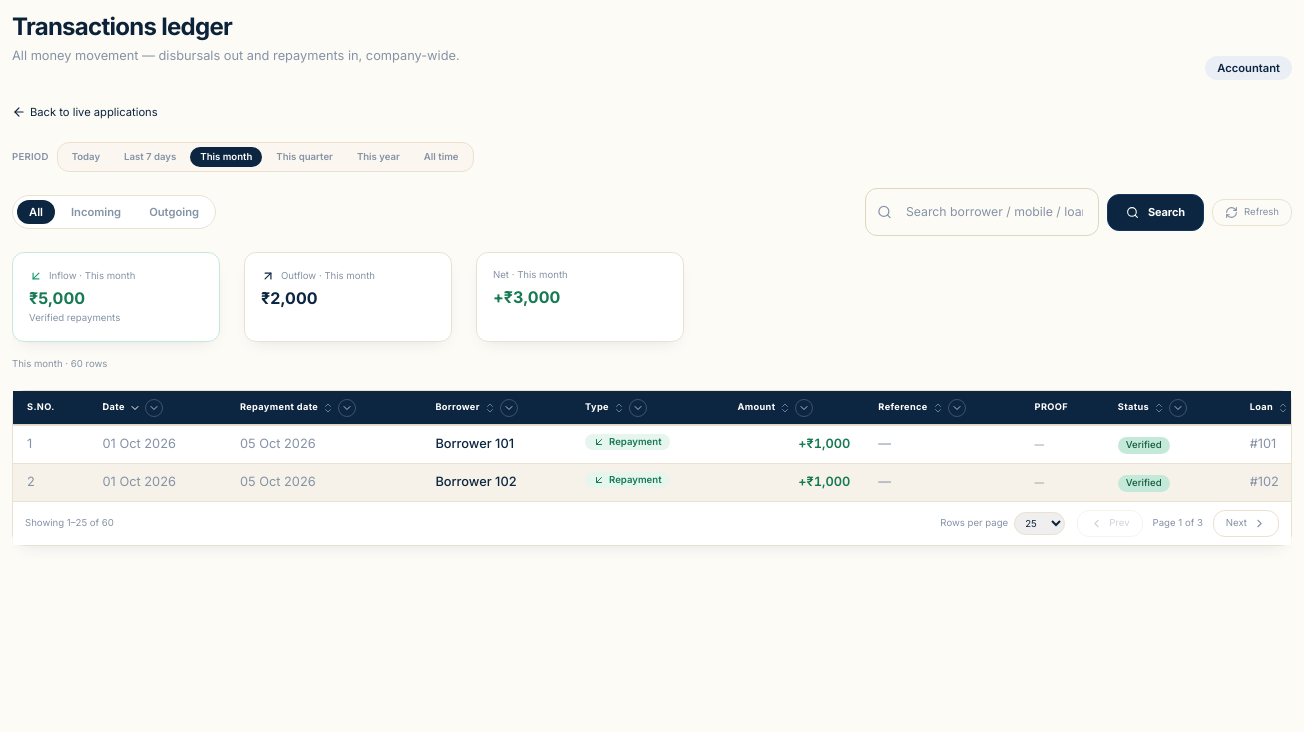
it: TransactionsPage › asks once, for page 1, when the period changes on a later page
Check: the button "Borrower 101" is shown, box [435,434,514,454]
Click the button "Next" at (1246, 523), box [1213,510,1279,537]
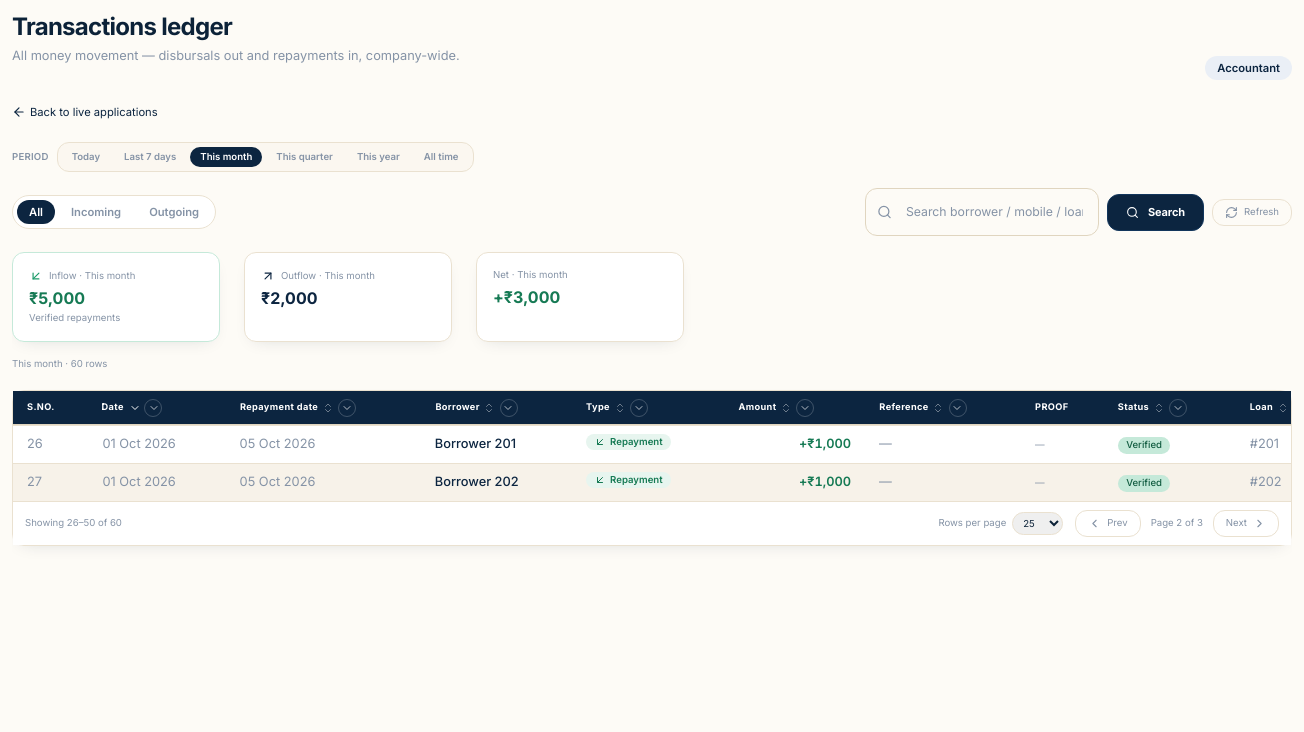
Check: the button "Borrower 201" is shown, box [435,434,516,454]
Click the button "All time" at (441, 157), box [414,147,468,167]
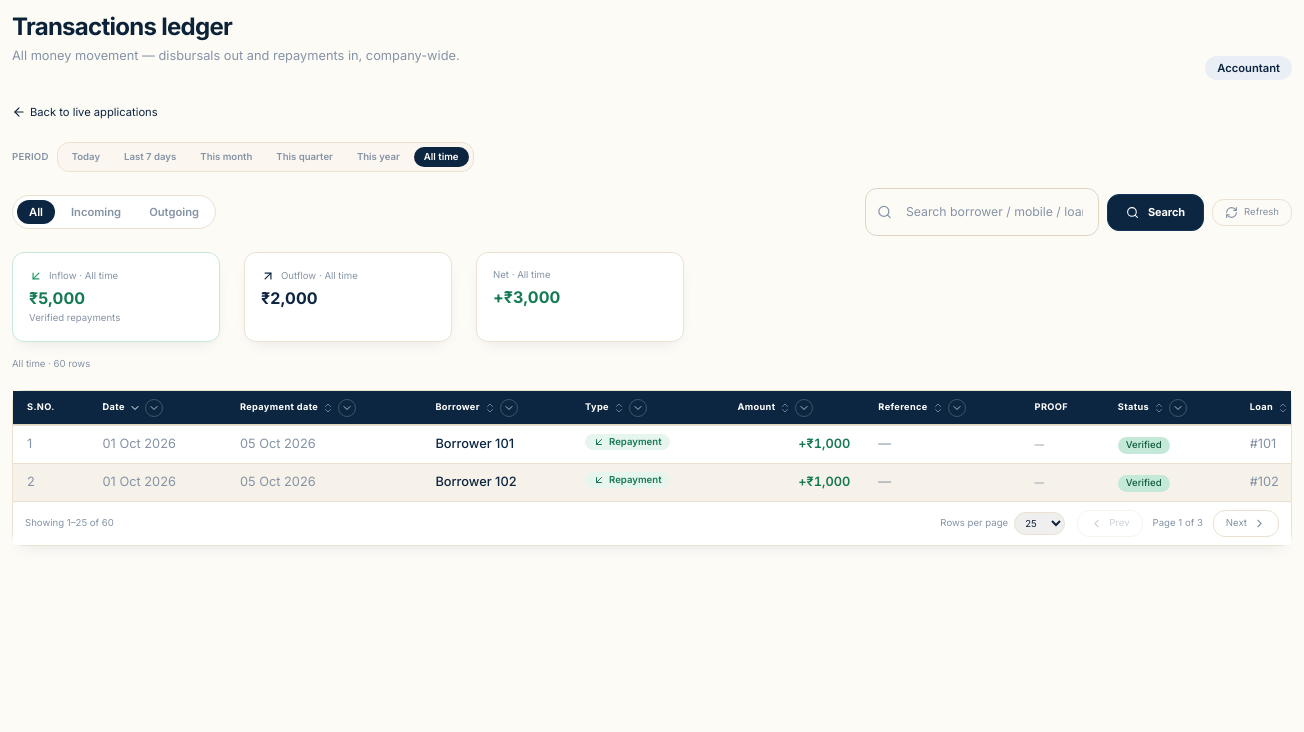
Check: the text "All time · 60 rows" is shown, box [12,358,90,368]
